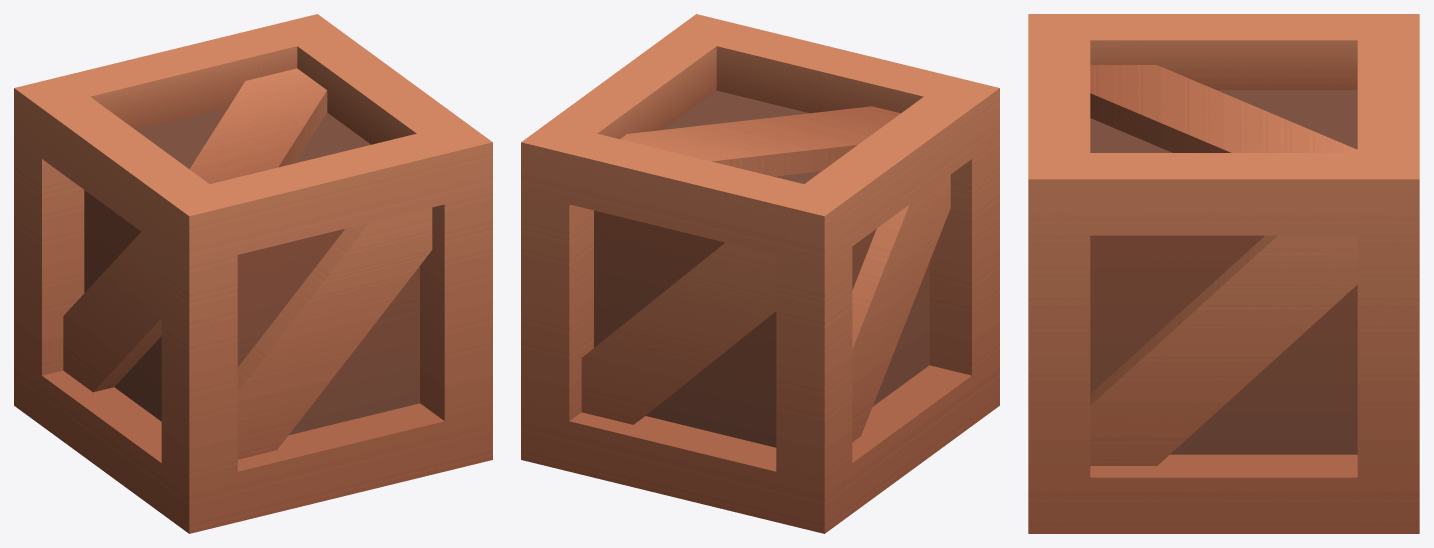
File: crate.glb
3 views of the same model, side by side, from view 1: azimuth 30°, elevation 25°; view 2: azimuth 150°, elevation 25°; view 3: azimuth 270°, elevation 25° (orthographic). The views are drawn at different scales.
Visible parts, largest first — view 1: crate; view 2: crate; view 3: crate.
Boxes of the visible parts, box(x1,y1,x2,y2) form: crate: box(14, 14, 492, 533); crate: box(521, 14, 999, 533); crate: box(1028, 14, 1419, 533).
Size of the model in its own units: 0.5 by 0.5 by 0.5.
1 material, 1 textured.
